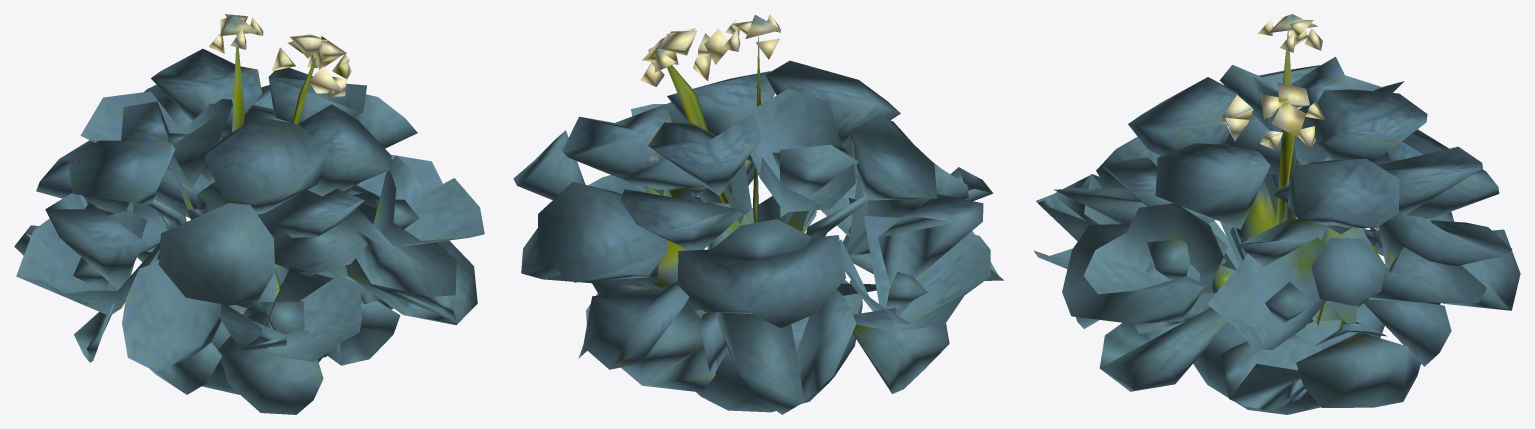
The model's file is crop-sea-kale.glb.
The picture shows the model from 3 angles, left to right: view 1: azimuth 30°, elevation 25°; view 2: azimuth 150°, elevation 25°; view 3: azimuth 270°, elevation 25°; orthographic projection. The views are drawn at different scales.
Visible parts, largest first — view 1: plant, fruit; view 2: plant, fruit; view 3: plant, fruit.
Part boxes in pixels (x1,y1,x2,y2): plant: (14, 34, 484, 414); fruit: (165, 14, 351, 190); plant: (513, 36, 1004, 414); fruit: (640, 14, 781, 215); plant: (1033, 30, 1520, 414); fruit: (1218, 14, 1421, 375).
Size of the model in its own units: 0.5902 by 0.5 by 0.5902.
1 material, 1 textured.
